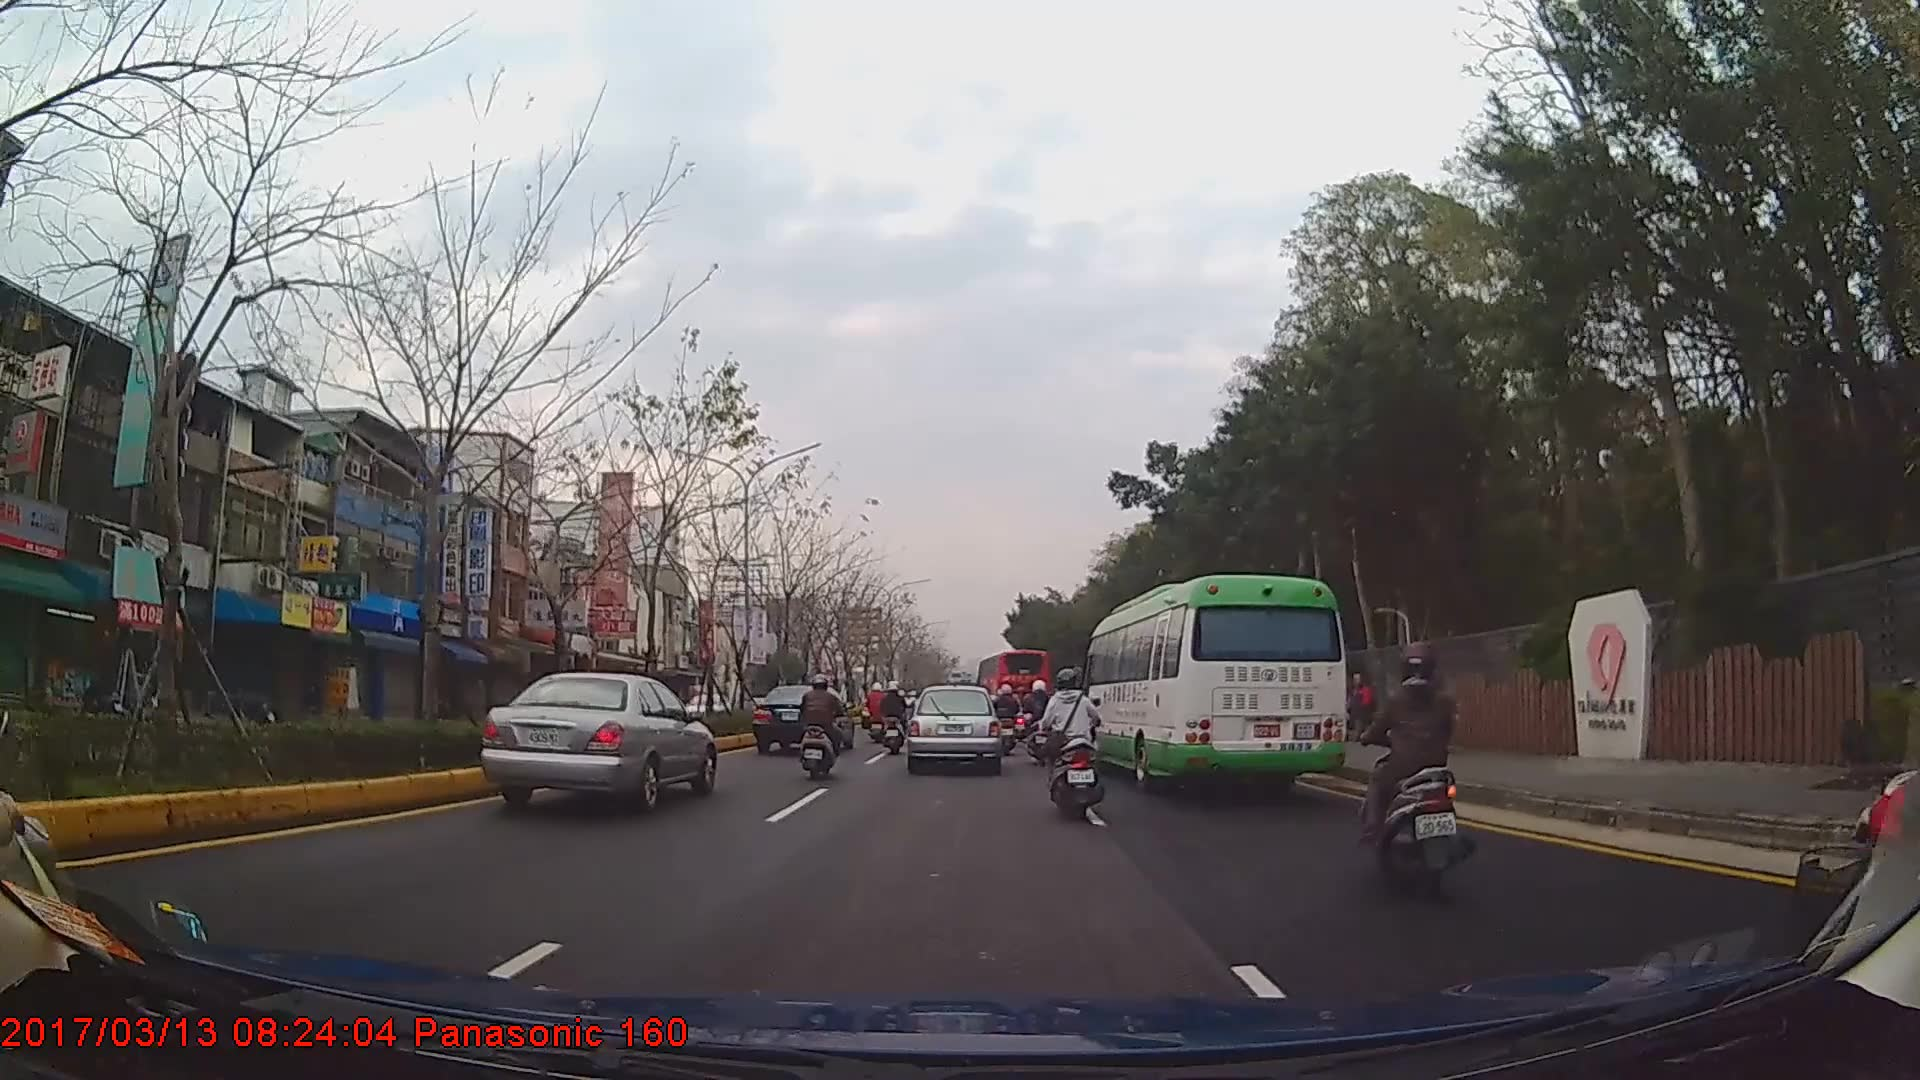pedestrian: (1345, 674, 1377, 747)
rider: (1348, 644, 1468, 891), (1040, 669, 1102, 821), (800, 672, 847, 779), (1024, 679, 1055, 759), (990, 684, 1020, 756), (879, 682, 909, 756), (867, 681, 891, 744), (903, 691, 923, 728)
vehicle: (1076, 571, 1347, 788), (477, 668, 716, 820), (903, 684, 1004, 774), (754, 682, 858, 754), (977, 646, 1049, 724)
